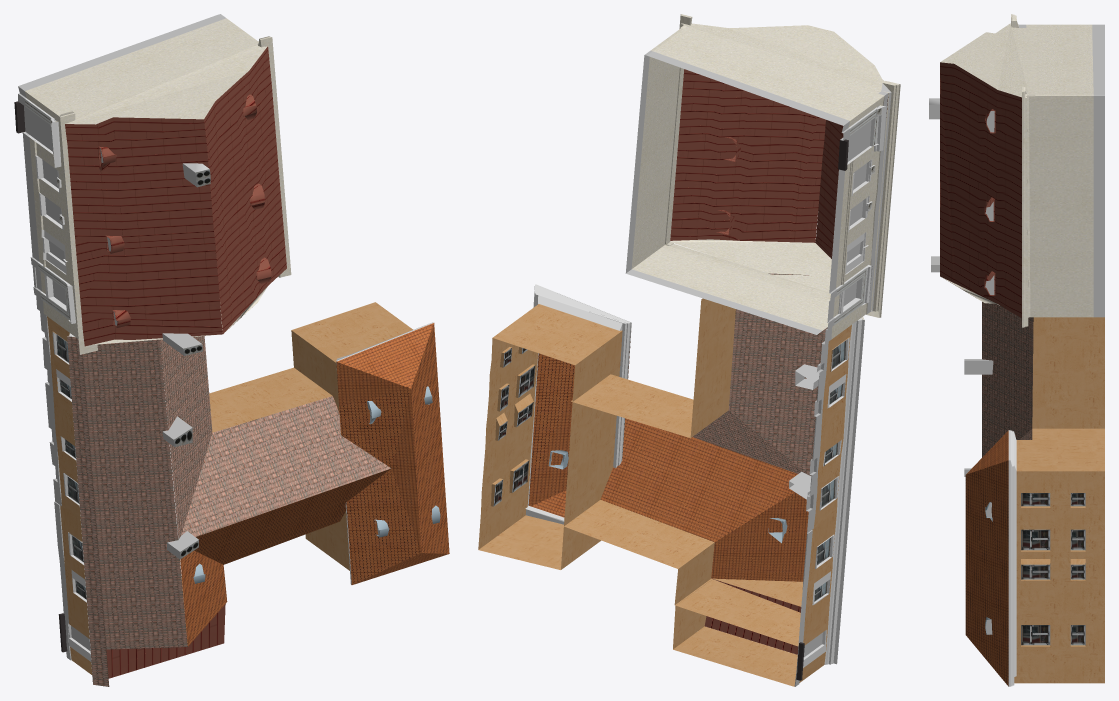
Rendered from Uus_16-origo.obj.
3 renders of one model, left to right at view 1: azimuth 30°, elevation 25°; view 2: azimuth 150°, elevation 25°; view 3: azimuth 270°, elevation 25°, orthographic. The views are drawn at different scales.
Visible parts, largest first — view 1: uustn16iiv; view 2: uustn16iiv; view 3: uustn16iiv.
Boxes of the visible parts, box(x1,y1,x2,y2) form: uustn16iiv: box(14, 14, 449, 686); uustn16iiv: box(478, 14, 900, 686); uustn16iiv: box(929, 14, 1104, 686).
Size of the model in its own units: 26.81 by 40.5 by 11.25.
